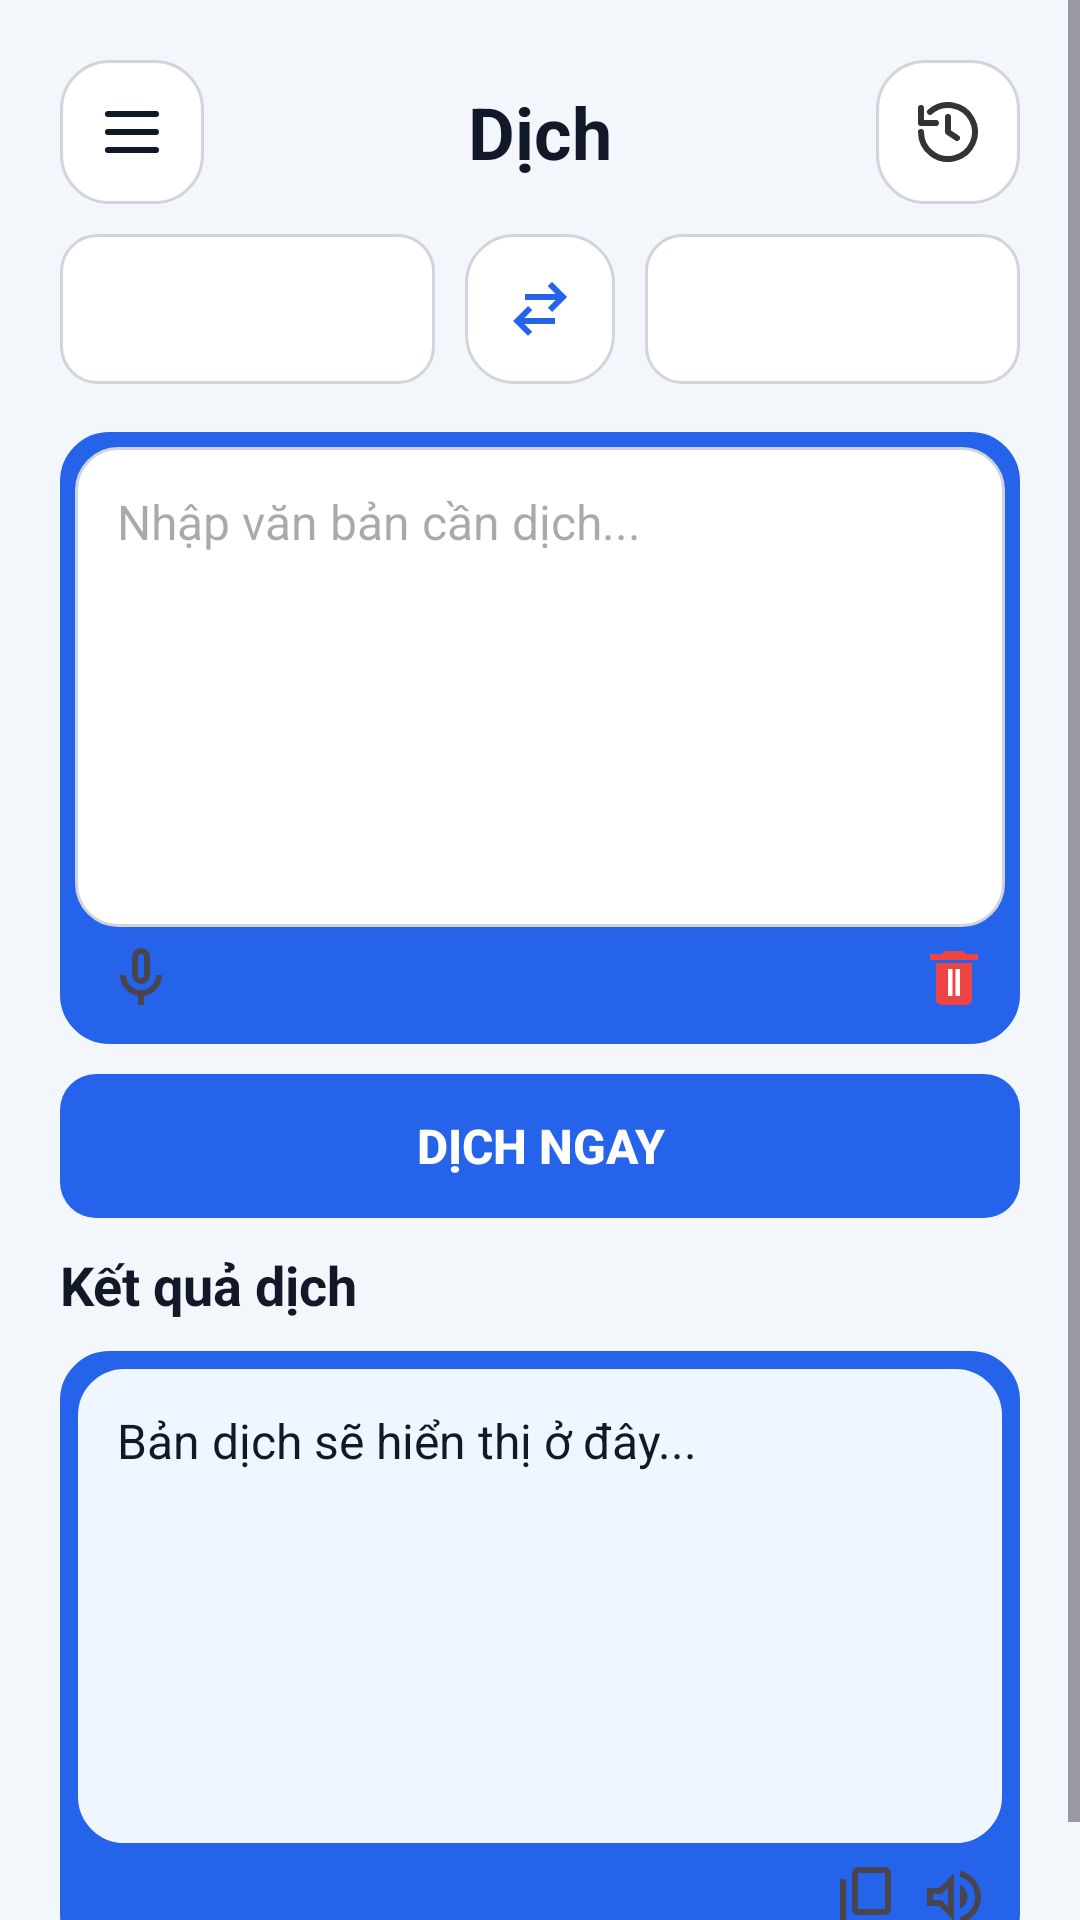

Named icons in this screenshot (1080×1920) and their bounding boxes, (x1, y1, x2, y2):
delete: (930, 951, 978, 1005)
Lịch sử: (876, 60, 1020, 204)
menu: (60, 60, 204, 204)
mic: (120, 948, 162, 1005)
Đổi ngôn ngữ: (465, 234, 615, 384)
